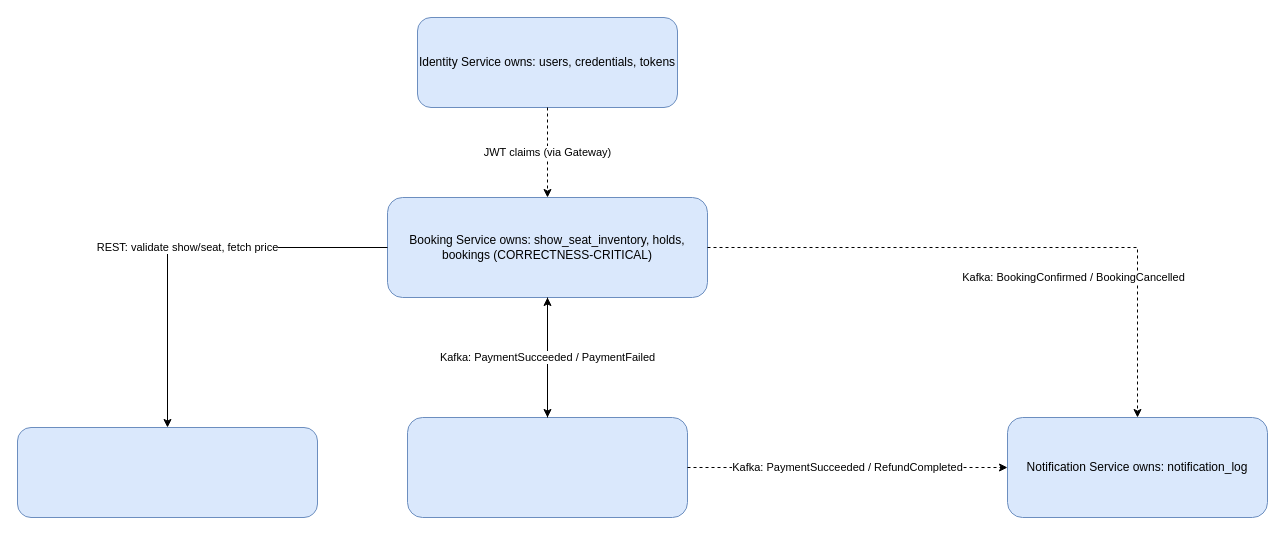
Image size: 1285x535. Some labels were removed from this diagram. The shapes that lost their labels are listed below. From the top down, each one's box as (x1, y1, x2, y2) in pixels, then its label:
(16, 426, 318, 518): Catalog Service owns: movies, venues, screens, seats, shows, pricing
(406, 416, 688, 518): Payment Service owns: payment_intents, payments
